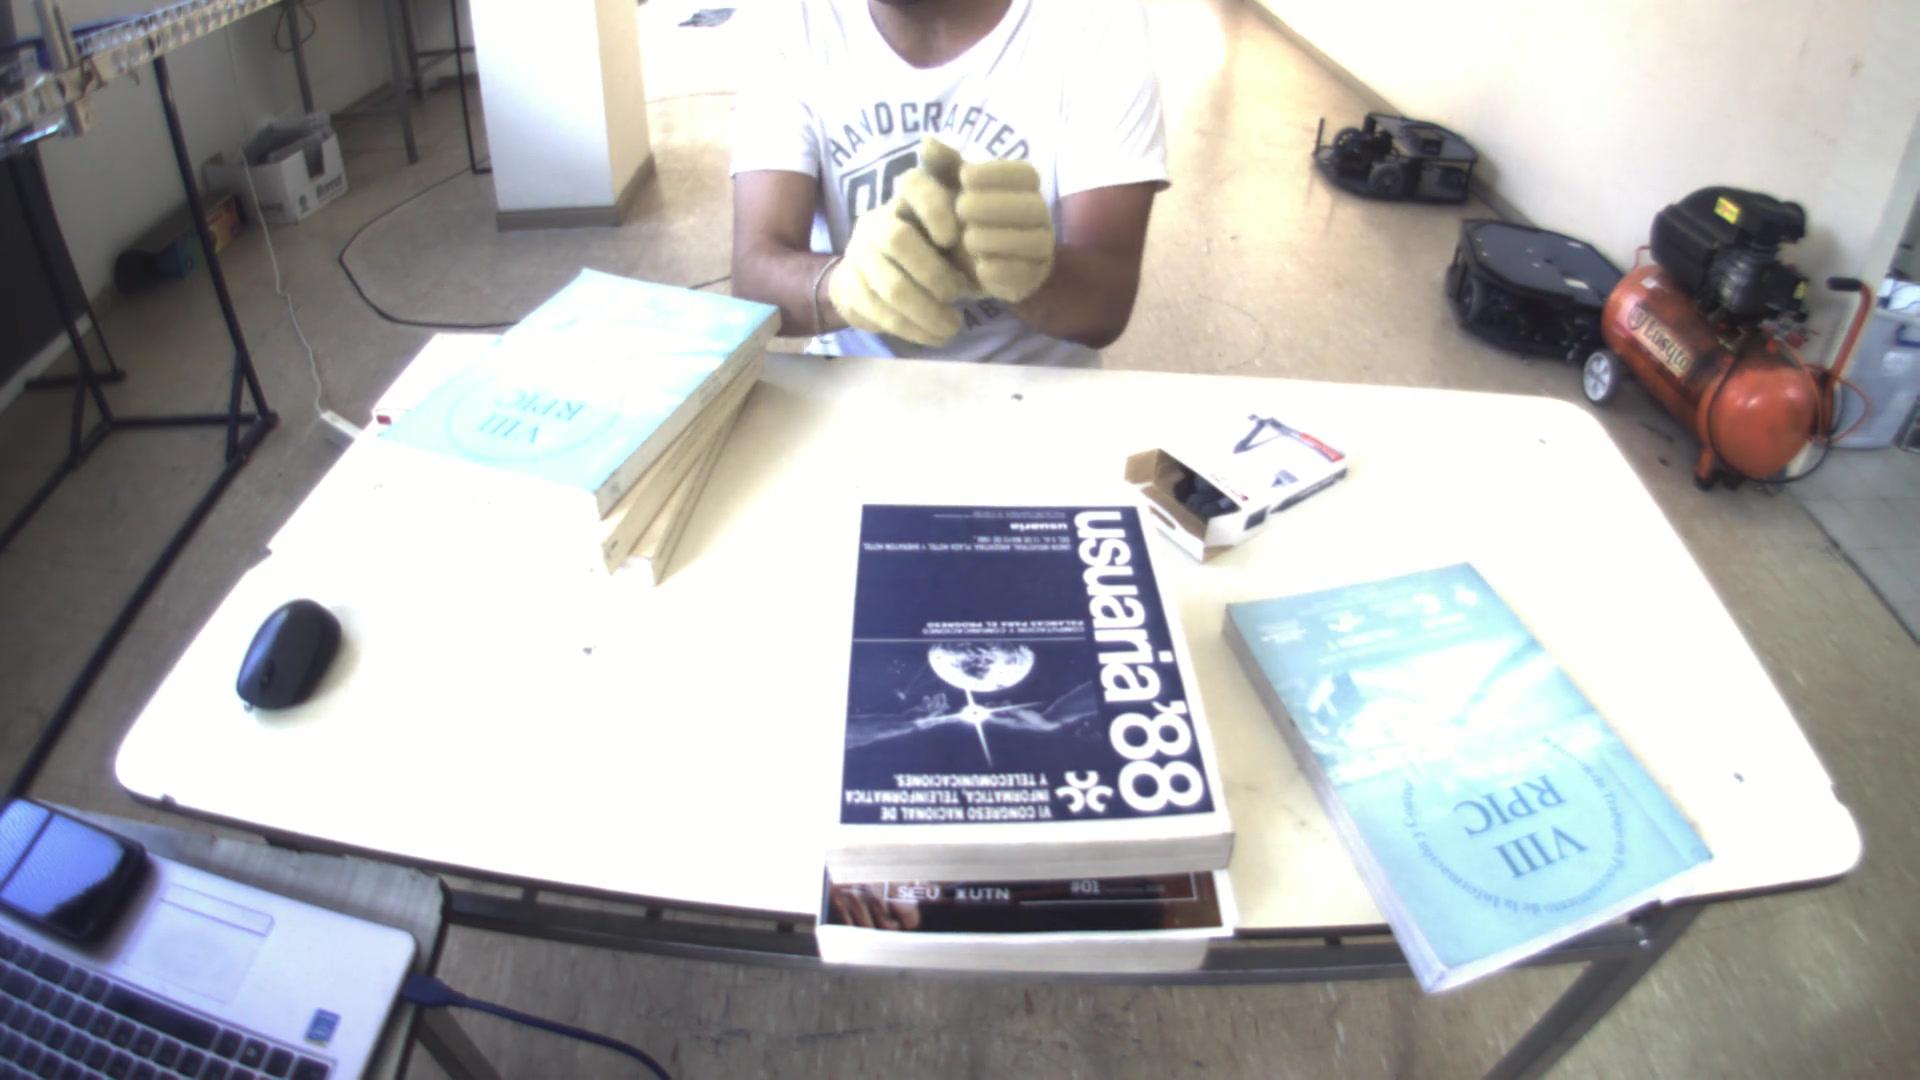hand: (816, 161, 959, 347), (922, 131, 1062, 311)
